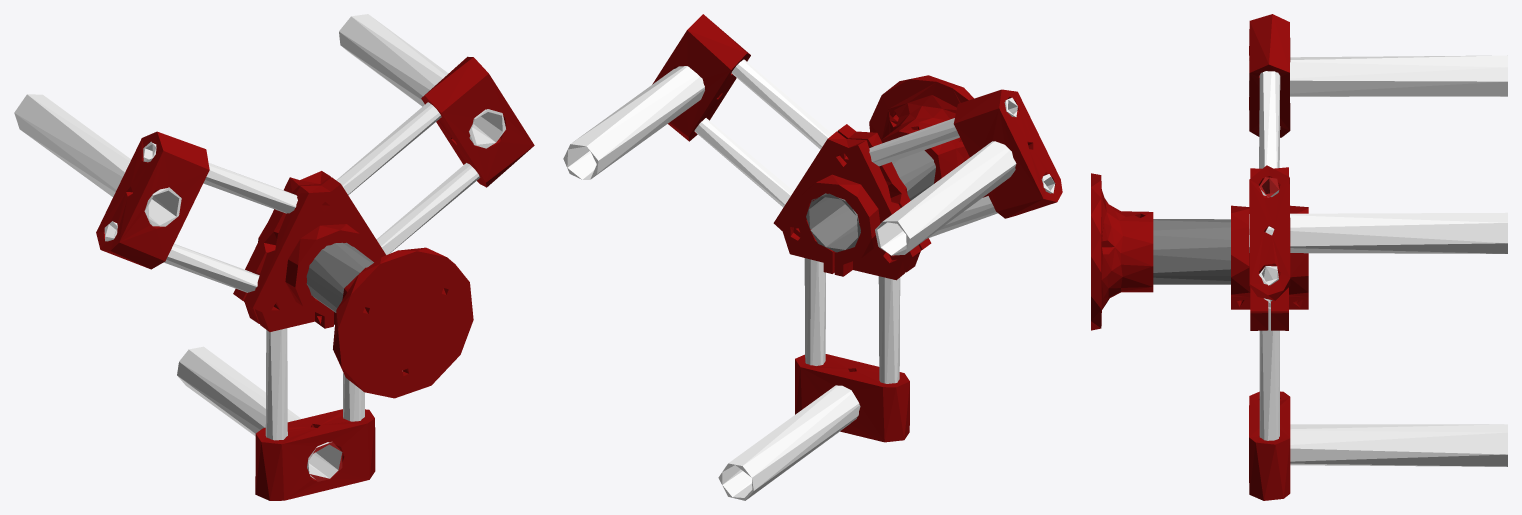
Rendered from end_effector_fork.dae.
The picture shows the model from 3 angles, left to right: view 1: azimuth 30°, elevation 25°; view 2: azimuth 150°, elevation 25°; view 3: azimuth 270°, elevation 25°; orthographic projection. The views are drawn at different scales.
Parts seen in each view (by area): view 1: Shape_IndexedFaceSet.015; view 2: Shape_IndexedFaceSet.015; view 3: Shape_IndexedFaceSet.015.
Boxes of the visible parts, x1,y1,x2,y2 form: Shape_IndexedFaceSet.015: (14, 14, 534, 500); Shape_IndexedFaceSet.015: (563, 14, 1062, 500); Shape_IndexedFaceSet.015: (1091, 14, 1507, 500).
Bounding box in the file's own units: 0.1887 × 0.161 × 0.1636.
